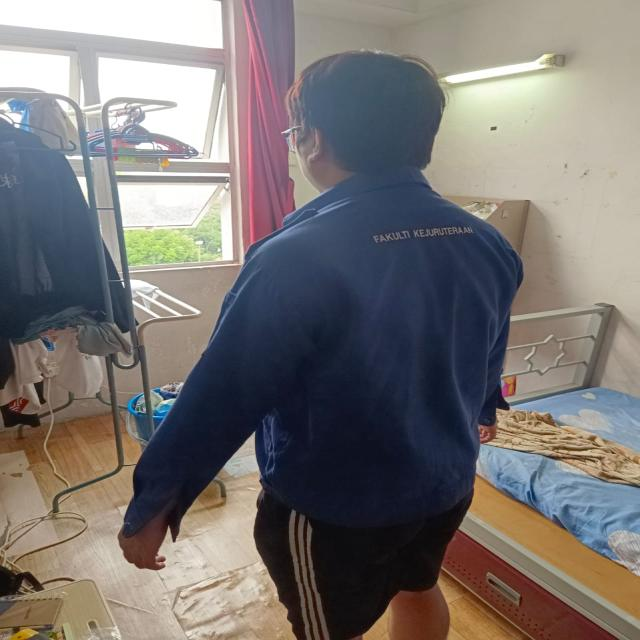person_with_labcoat: (119, 51, 523, 640)
